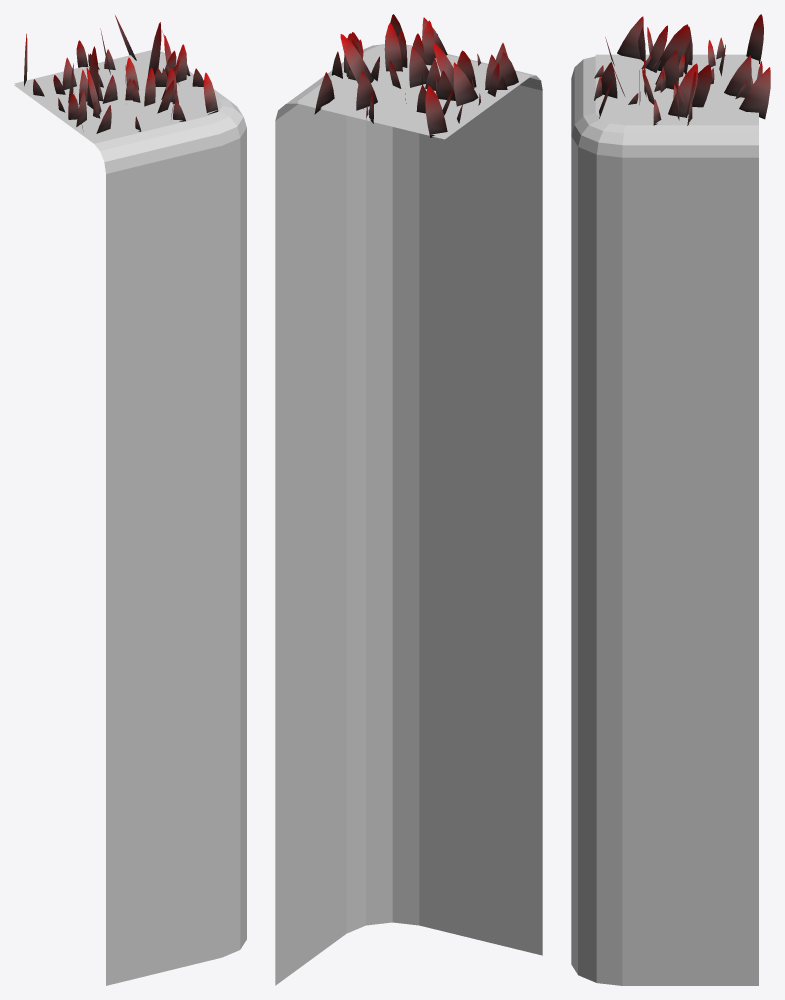
The model's file is f_GrassTileModel.fbx.
3 views of the same model, side by side, from view 1: azimuth 30°, elevation 25°; view 2: azimuth 150°, elevation 25°; view 3: azimuth 270°, elevation 25° (orthographic). The views are drawn at different scales.
Visible parts, largest first — view 1: Stone, Grass, GrassGround; view 2: Stone, Grass, GrassGround; view 3: Stone, Grass, GrassGround.
Boxes of the visible parts, bbox=[...] form: Stone: bbox=[14, 51, 246, 985]; Grass: bbox=[24, 15, 218, 133]; GrassGround: bbox=[14, 50, 222, 141]; Stone: bbox=[275, 44, 542, 985]; Grass: bbox=[314, 14, 518, 137]; GrassGround: bbox=[297, 45, 529, 137]; Stone: bbox=[571, 56, 758, 985]; Grass: bbox=[594, 14, 770, 125]; GrassGround: bbox=[595, 54, 758, 123].
Bounding box in the file's own units: 1 × 5.32 × 1.06.
